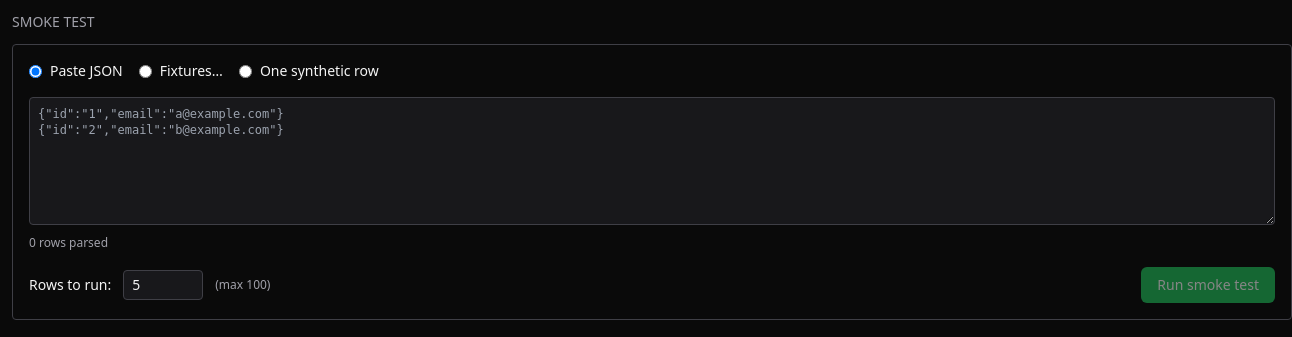
Test: SmokeSection › synthetic mode shows the row preview
Click the radio button labelled "One synthetic row": (245,71) [239, 64, 252, 78]
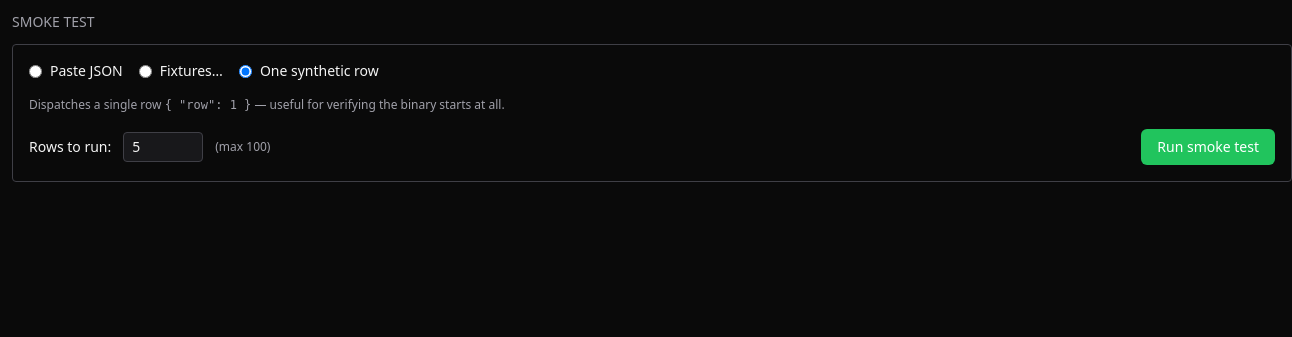
Check: the text "single row" is shown, box [29, 96, 162, 113]
Check: the button "Run smoke test" is enabled, box [1141, 129, 1275, 165]
